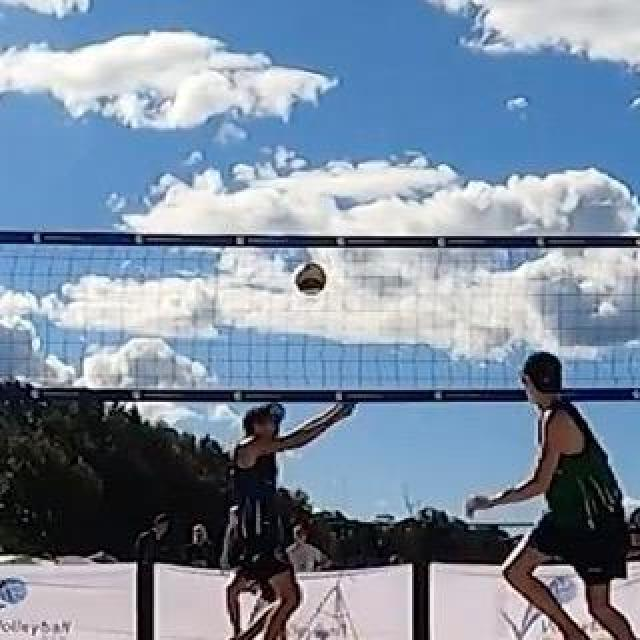volleyball: (295, 263, 325, 295)
